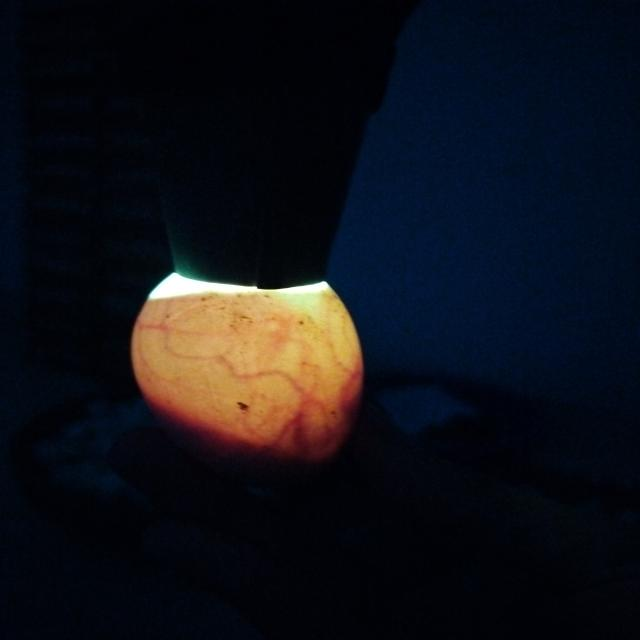Embriao: (137, 380, 373, 493)
